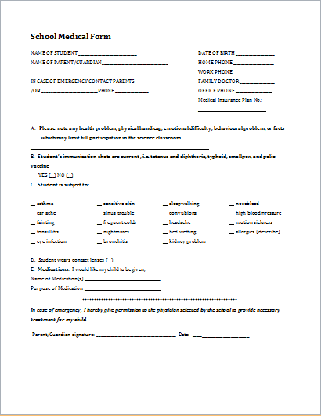textline: (29, 144, 213, 152), (84, 285, 163, 295), (82, 275, 164, 284), (190, 331, 255, 341), (93, 333, 178, 340), (196, 107, 270, 115), (102, 61, 169, 67), (40, 88, 99, 94), (233, 89, 277, 96), (233, 71, 275, 77), (78, 53, 139, 57), (231, 62, 276, 67), (235, 52, 277, 57), (238, 81, 277, 86), (113, 89, 152, 94)
